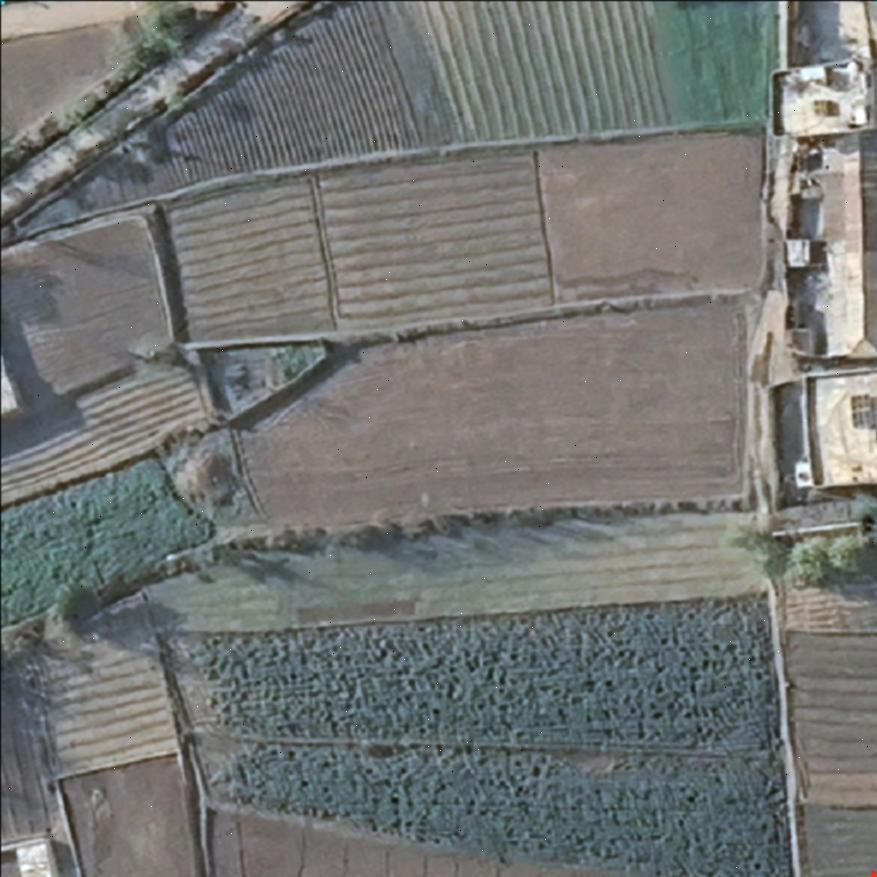Solarpanel: (849, 391, 877, 431), (810, 96, 841, 118)
